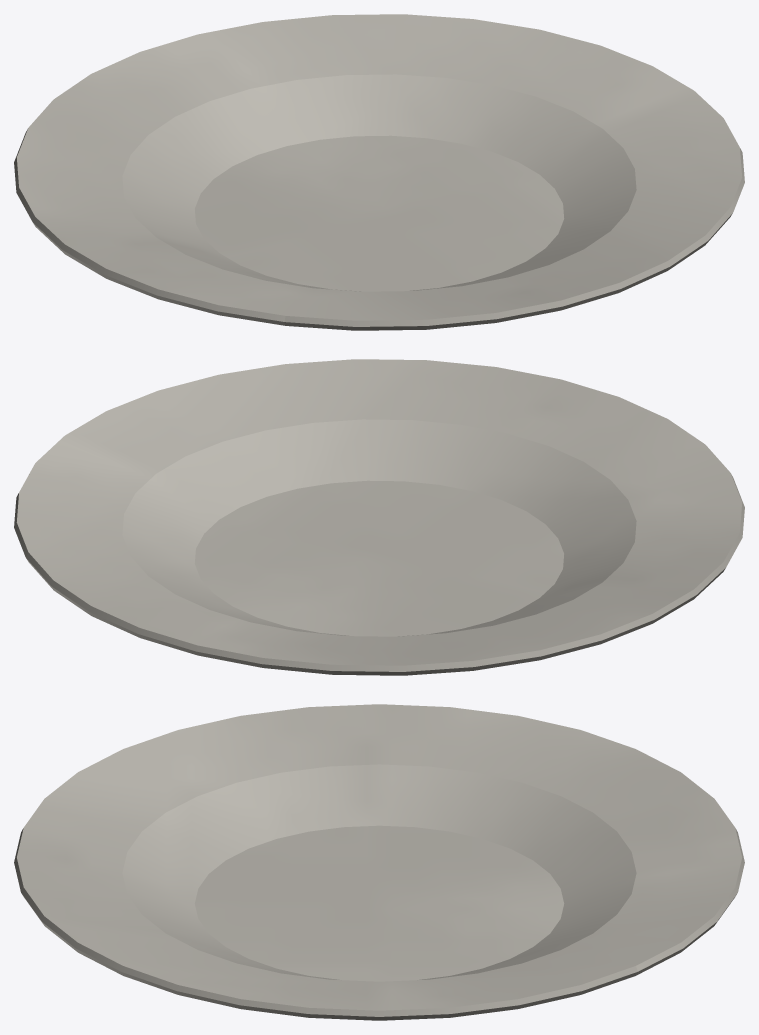
File: plate.glb
The picture shows the model from 3 angles, top to bottom: view 1: azimuth 30°, elevation 25°; view 2: azimuth 150°, elevation 25°; view 3: azimuth 270°, elevation 25°; orthographic projection.
Visible parts, largest first — view 1: plate; view 2: plate; view 3: plate.
Part boxes in pixels (x1=…): plate: x1=14, y1=14, x2=744, y2=330; plate: x1=14, y1=359, x2=744, y2=675; plate: x1=14, y1=704, x2=744, y2=1020.
Bounding box in the file's own units: 0.2283 × 0.0192 × 0.2283.
1 material, 1 textured.
